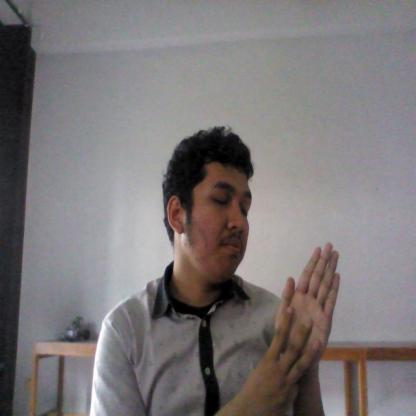M: (256, 235, 344, 410)
